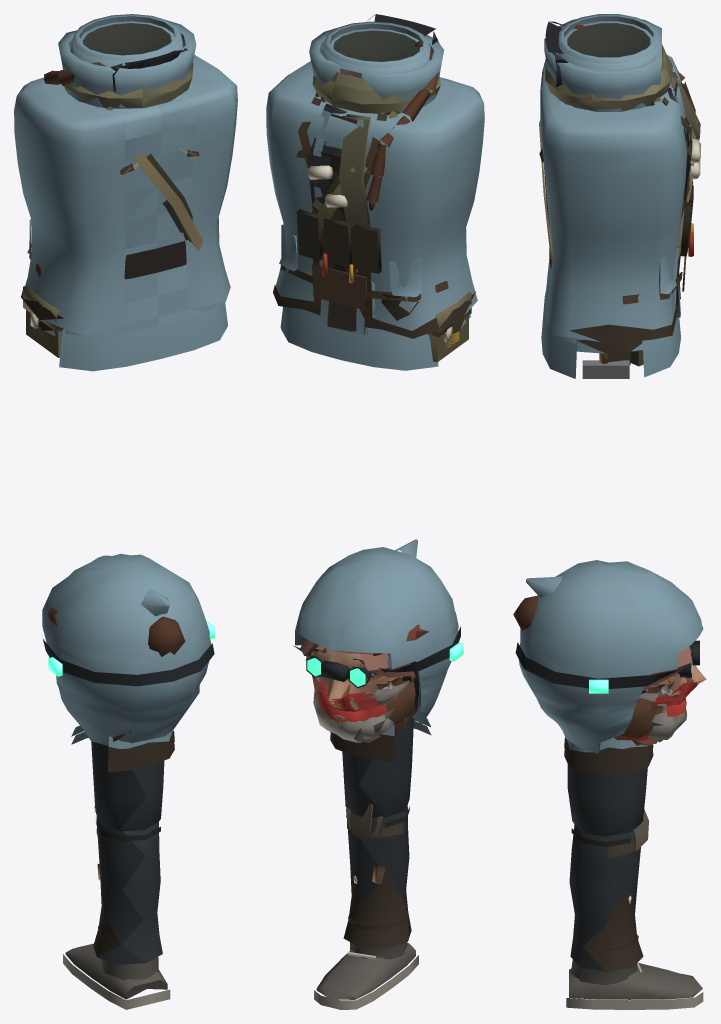
Rendered from survivors.glb.
3 renders of one model, left to right at view 1: azimuth 30°, elevation 25°; view 2: azimuth 150°, elevation 25°; view 3: azimuth 270°, elevation 25°, orthographic. The views are drawn at different scales.
Parts seen in each view (by area): view 1: FrissonSurvivorTorso_Max_Cloth, FrissonSurvivorHead_Raider_Cloth, FrissonSurvivorTorso_Sam_Cloth, FrissonSurvivorShin_Max_Detail, FrissonSurvivorHips_Sam_Cloth, FrissonSurvivorThigh_Max_Detail, FrissonSurvivorBoot_Daughter_Detail, FrissonSurvivorHead_Man_Cloth, FrissonSurvivorTorso_Father_Detail, FrissonSurvivorTorso_Lea_Detail, FrissonSurvivorHead_Raider_Detail, FrissonSurvivorTorso_Father_Cloth (+8 smaller); view 2: FrissonSurvivorTorso_Max_Cloth, FrissonSurvivorHead_Raider_Cloth, FrissonSurvivorShin_Max_Detail, FrissonSurvivorTorso_Max_Detail, FrissonSurvivorTorso_Father_Detail, FrissonSurvivorHips_Sam_Cloth, FrissonSurvivorTorso_Sam_Cloth, FrissonSurvivorBoot_Daughter_Detail, FrissonSurvivorThigh_Max_Detail, FrissonSurvivorTorso_Raider_Detail, FrissonSurvivorHead_Raider_Detail, FrissonSurvivorHead_Elder_Detail (+14 smaller); view 3: FrissonSurvivorTorso_Max_Cloth, FrissonSurvivorHead_Raider_Cloth, FrissonSurvivorShin_Max_Detail, FrissonSurvivorBoot_Daughter_Detail, FrissonSurvivorTorso_Sam_Cloth, FrissonSurvivorThigh_Max_Detail, FrissonSurvivorTorso_Father_Detail, FrissonSurvivorHead_Raider_Detail, FrissonSurvivorTorso_Lea_Detail, FrissonSurvivorHips_Sam_Cloth, FrissonSurvivorTorso_Max_Detail, FrissonSurvivorTorso_Father_Cloth (+14 smaller).
Boxes of the visible parts, x1,y1,x2,y2 form: FrissonSurvivorTorso_Max_Cloth: (14, 55, 237, 335); FrissonSurvivorHead_Raider_Cloth: (42, 553, 209, 745); FrissonSurvivorTorso_Sam_Cloth: (45, 21, 217, 339); FrissonSurvivorShin_Max_Detail: (93, 816, 162, 964); FrissonSurvivorHips_Sam_Cloth: (61, 302, 227, 371); FrissonSurvivorThigh_Max_Detail: (91, 741, 164, 831); FrissonSurvivorBoot_Daughter_Detail: (63, 943, 170, 1009); FrissonSurvivorHead_Man_Cloth: (58, 588, 211, 743); FrissonSurvivorTorso_Father_Detail: (38, 43, 193, 330); FrissonSurvivorTorso_Lea_Detail: (83, 23, 171, 55); FrissonSurvivorHead_Raider_Detail: (43, 639, 214, 686); FrissonSurvivorTorso_Father_Cloth: (73, 14, 186, 109); FrissonSurvivorTorso_Max_Cloth: (266, 61, 484, 330); FrissonSurvivorHead_Raider_Cloth: (295, 547, 458, 724); FrissonSurvivorShin_Max_Detail: (343, 805, 411, 948); FrissonSurvivorTorso_Max_Detail: (273, 68, 475, 338); FrissonSurvivorTorso_Father_Detail: (312, 50, 464, 333); FrissonSurvivorHips_Sam_Cloth: (281, 307, 435, 370); FrissonSurvivorTorso_Sam_Cloth: (292, 28, 470, 336); FrissonSurvivorBoot_Daughter_Detail: (314, 942, 418, 1009); FrissonSurvivorThigh_Max_Detail: (342, 716, 413, 817); FrissonSurvivorTorso_Raider_Detail: (296, 95, 400, 273); FrissonSurvivorHead_Raider_Detail: (293, 626, 460, 726); FrissonSurvivorHead_Elder_Detail: (300, 638, 415, 743); FrissonSurvivorTorso_Max_Cloth: (541, 55, 687, 341); FrissonSurvivorHead_Raider_Cloth: (519, 560, 703, 753); FrissonSurvivorShin_Max_Detail: (569, 824, 643, 971); FrissonSurvivorBoot_Daughter_Detail: (566, 959, 703, 1009); FrissonSurvivorTorso_Sam_Cloth: (540, 19, 689, 353); FrissonSurvivorThigh_Max_Detail: (567, 764, 647, 836); FrissonSurvivorTorso_Father_Detail: (543, 44, 700, 354); FrissonSurvivorHead_Raider_Detail: (515, 640, 705, 740); FrissonSurvivorTorso_Lea_Detail: (567, 23, 700, 179); FrissonSurvivorHips_Sam_Cloth: (541, 291, 680, 378); FrissonSurvivorTorso_Max_Detail: (569, 82, 693, 344); FrissonSurvivorTorso_Father_Cloth: (558, 14, 685, 118).
Bounding box in the file's own units: 0.4741 × 2.34 × 0.4286.
